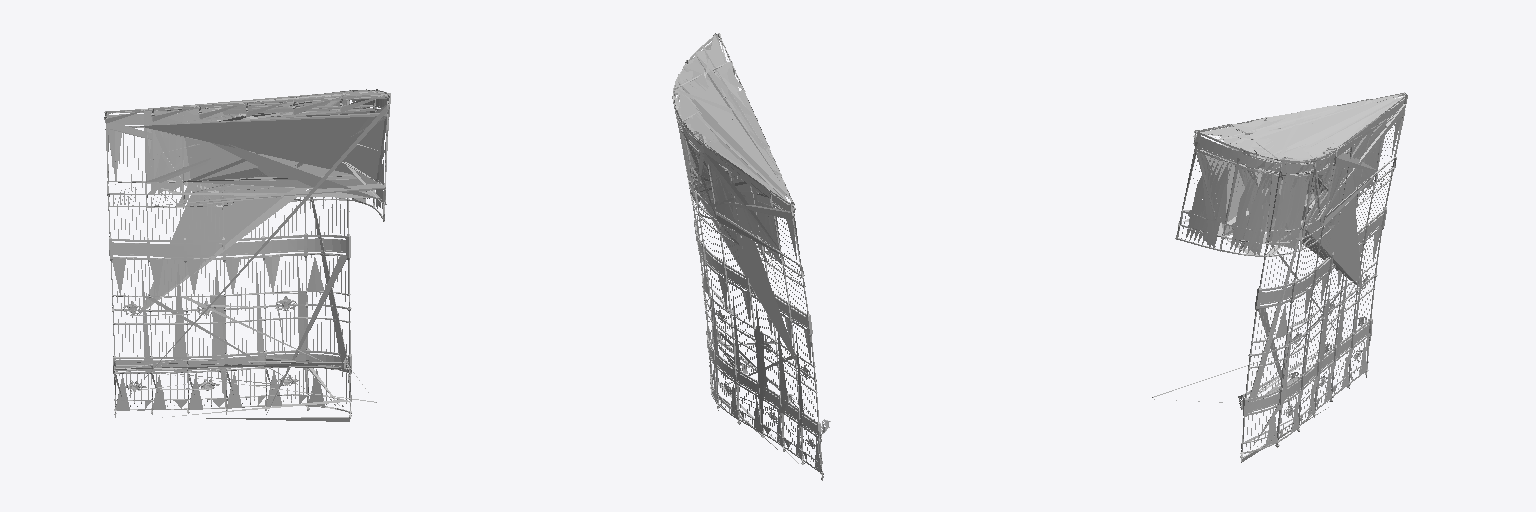
The model's file is ma_fence.obj.
3 renders of one model, left to right at view 1: azimuth 30°, elevation 25°; view 2: azimuth 150°, elevation 25°; view 3: azimuth 270°, elevation 25°, orthographic.
Visible parts, largest first — view 1: ma_fence; view 2: ma_fence; view 3: ma_fence.
Part boxes in pixels (left/top/right/bottom): ma_fence: left=104, top=89, right=390, bottom=421; ma_fence: left=672, top=33, right=830, bottom=480; ma_fence: left=1152, top=92, right=1407, bottom=462.
Size of the model in its own units: 1622 by 2602 by 1772.